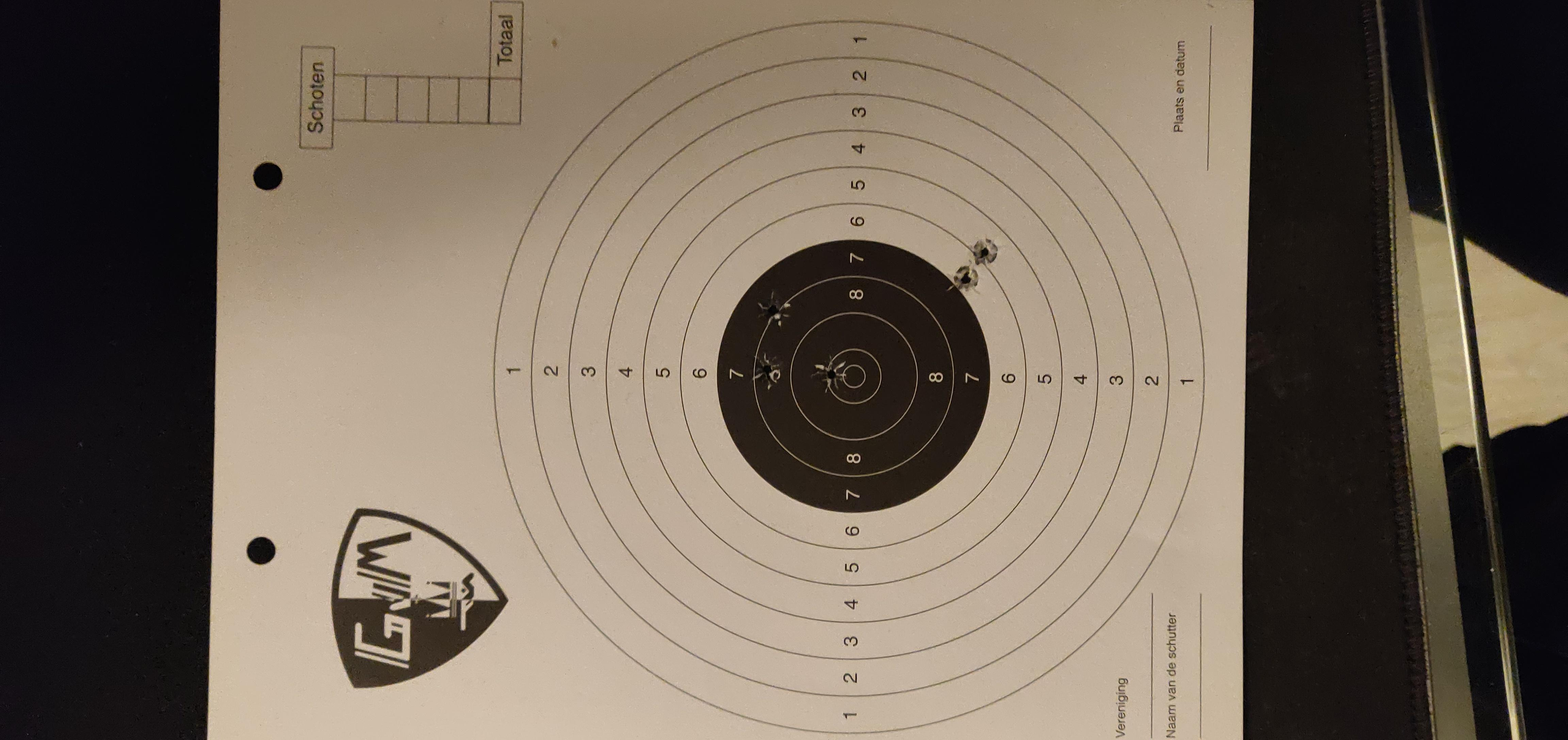hole: (719, 346, 758, 384), (778, 411, 813, 449), (784, 351, 817, 388), (587, 444, 622, 476), (568, 474, 598, 503)
